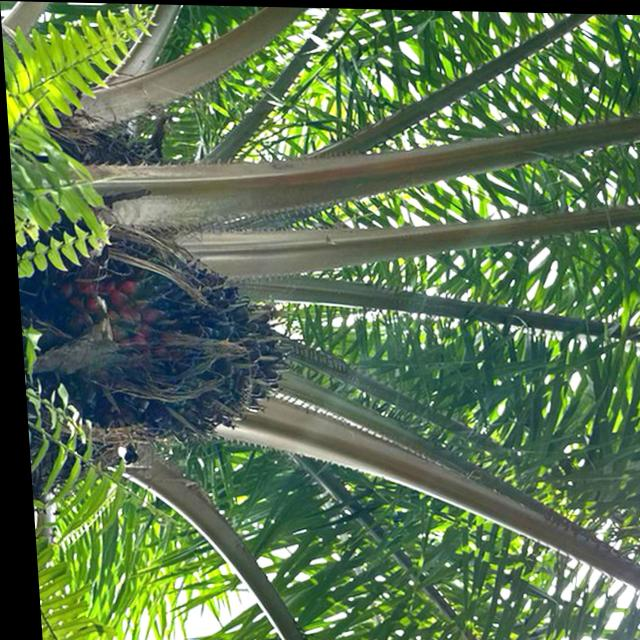ripe: (17, 226, 302, 455)
